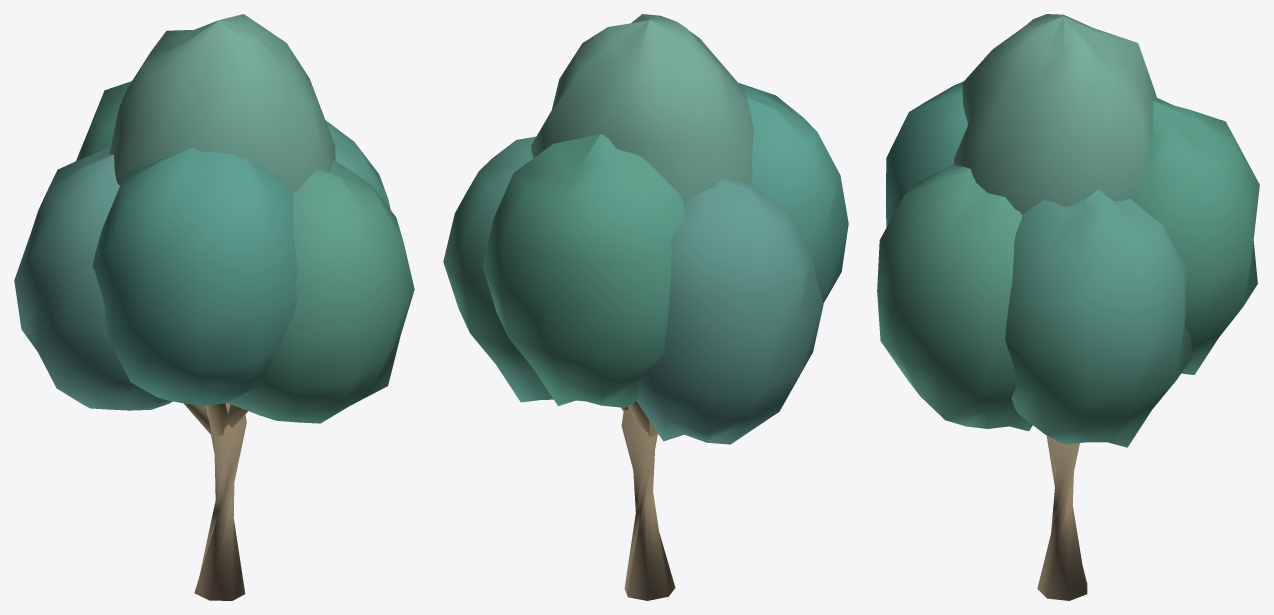
File: tree1.glb
3 renders of one model, left to right at view 1: azimuth 30°, elevation 25°; view 2: azimuth 150°, elevation 25°; view 3: azimuth 270°, elevation 25°, orthographic.
Parts seen in each view (by area): view 1: Tree1_leaf, Tree1_bark; view 2: Tree1_leaf, Tree1_bark; view 3: Tree1_leaf, Tree1_bark.
Boxes of the visible parts, left/top/right/bottom form: Tree1_leaf: left=14, top=14, right=414, bottom=423; Tree1_bark: left=184, top=402, right=247, bottom=600; Tree1_leaf: left=443, top=14, right=848, bottom=444; Tree1_bark: left=621, top=401, right=675, bottom=600; Tree1_leaf: left=877, top=14, right=1259, bottom=447; Tree1_bark: left=1037, top=435, right=1087, bottom=600.
Size of the model in its own units: 0.5842 by 0.9144 by 0.5528.
